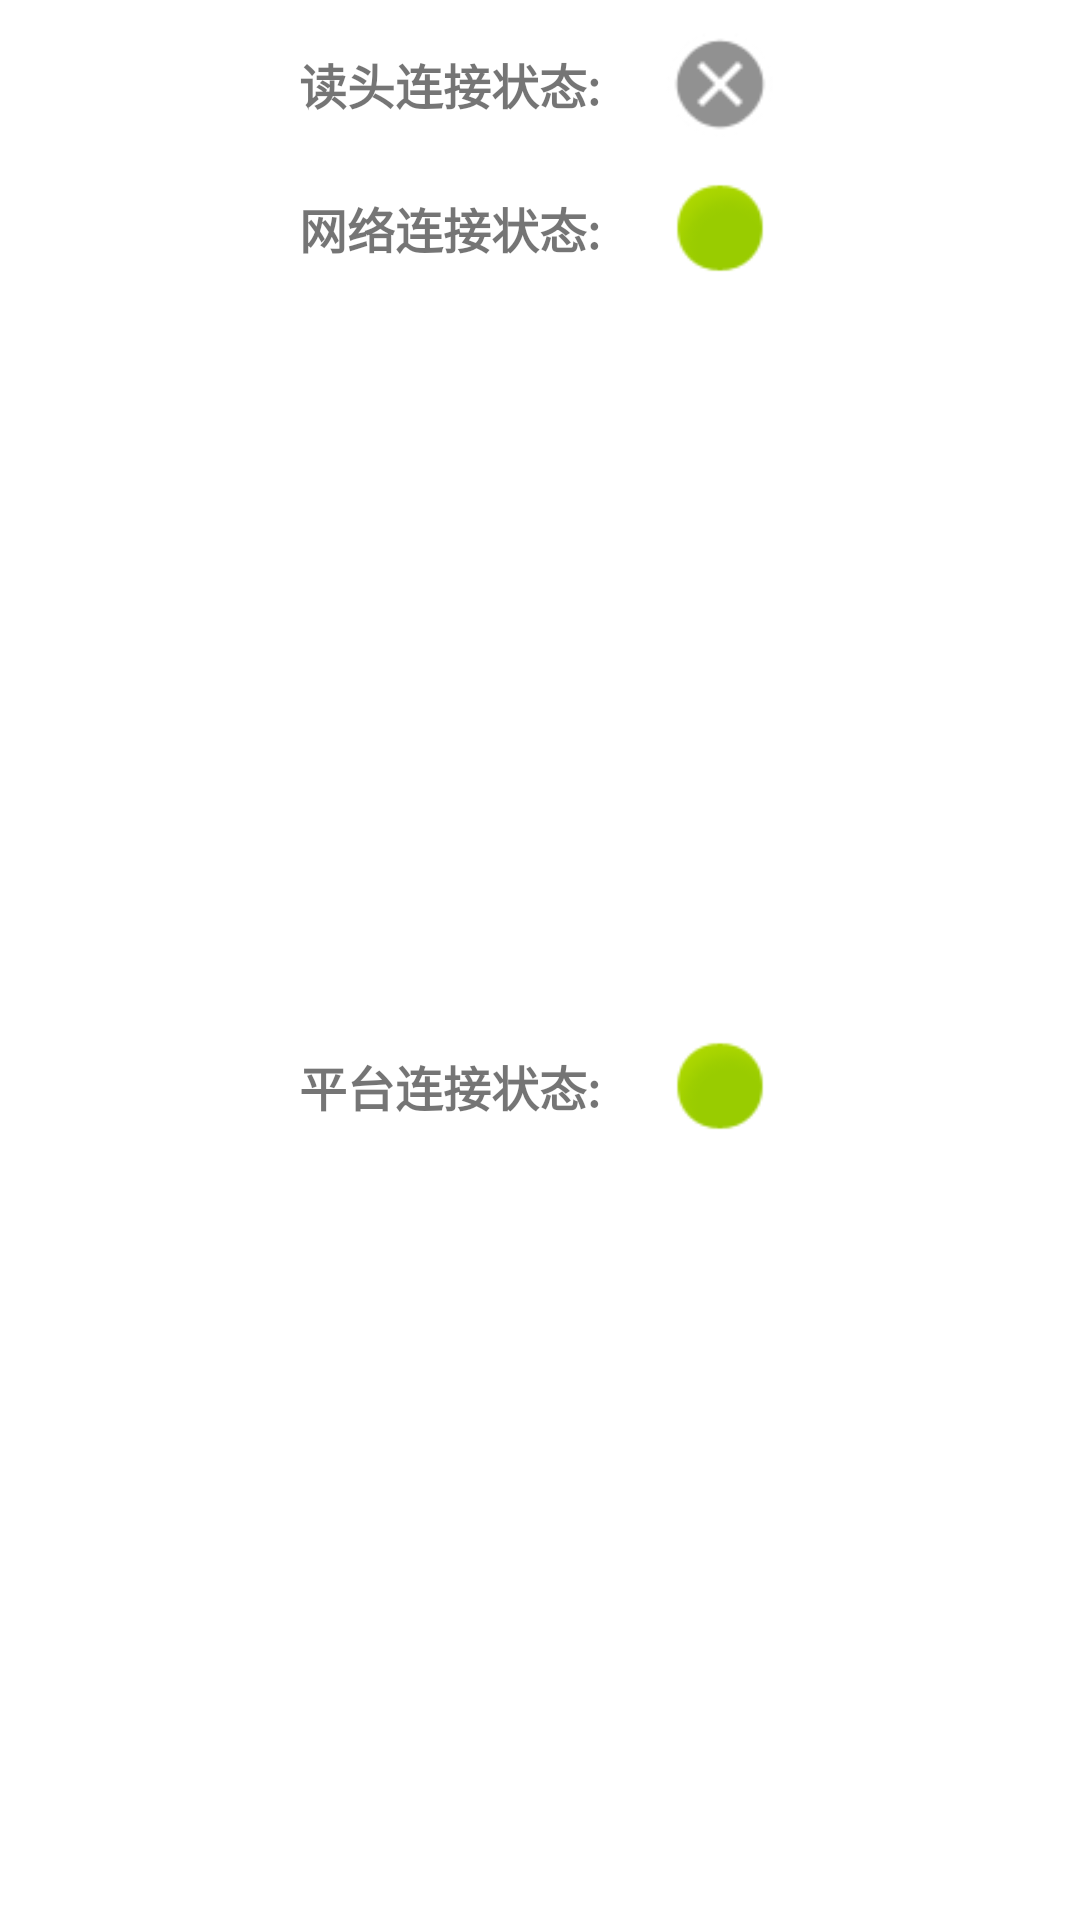

Icons on this 1080px×1920px Android screen, each with its box as box=[x1, y1, x2, y2]:
presence offline: box=[676, 40, 764, 128]
presence online: box=[676, 184, 764, 272], box=[676, 1042, 764, 1130]
